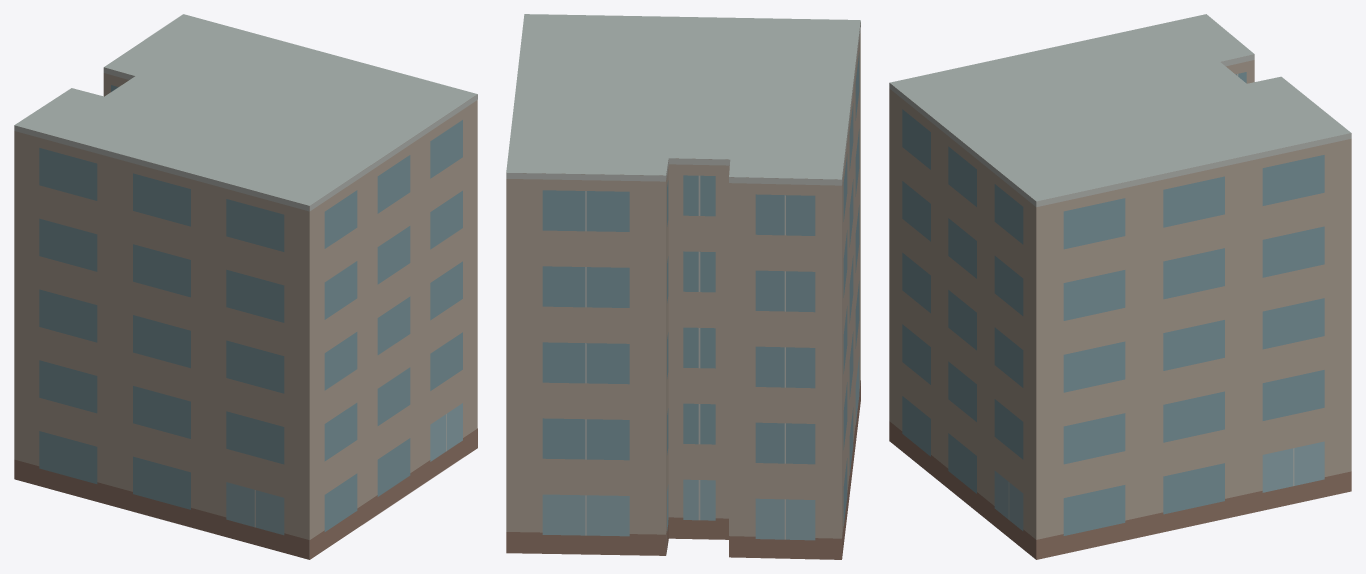
The model's file is survey-upis-33030501.glb.
3 renders of one model, left to right at view 1: azimuth 30°, elevation 25°; view 2: azimuth 150°, elevation 25°; view 3: azimuth 270°, elevation 25°, orthographic. The views are drawn at different scales.
Parts seen in each view (by area): view 1: survey-upis-33030501.tmp; view 2: survey-upis-33030501.tmp; view 3: survey-upis-33030501.tmp.
Part boxes in pixels (x1=…): survey-upis-33030501.tmp: x1=14, y1=14, x2=477, y2=559; survey-upis-33030501.tmp: x1=506, y1=14, x2=860, y2=559; survey-upis-33030501.tmp: x1=889, y1=14, x2=1351, y2=559.
Bounding box in the file's own units: 17.12 × 15.25 × 17.83.
